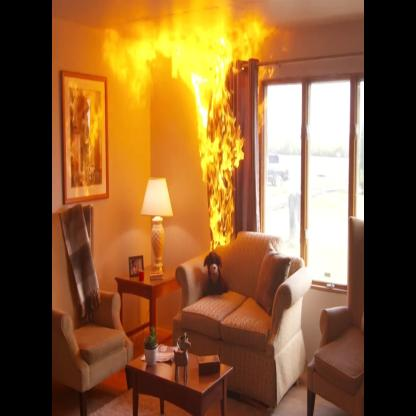fire: (110, 3, 277, 243)
